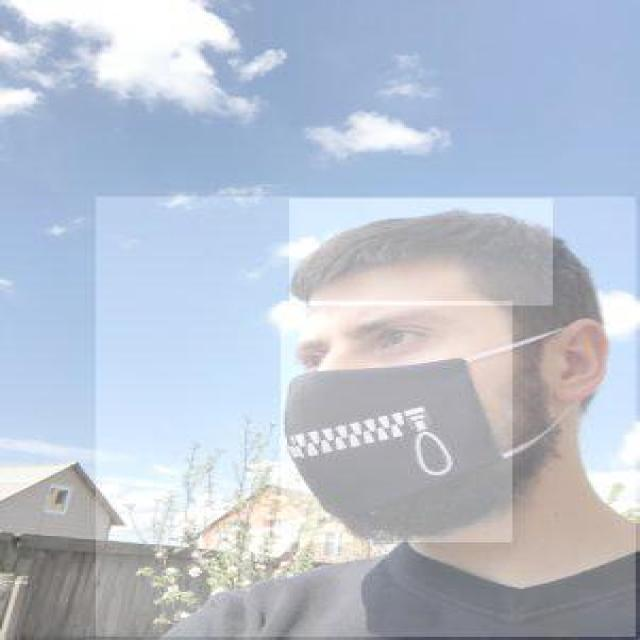face_mask: (280, 301, 514, 544)
head_nohelmet: (289, 198, 553, 306)
person: (96, 197, 638, 638)
